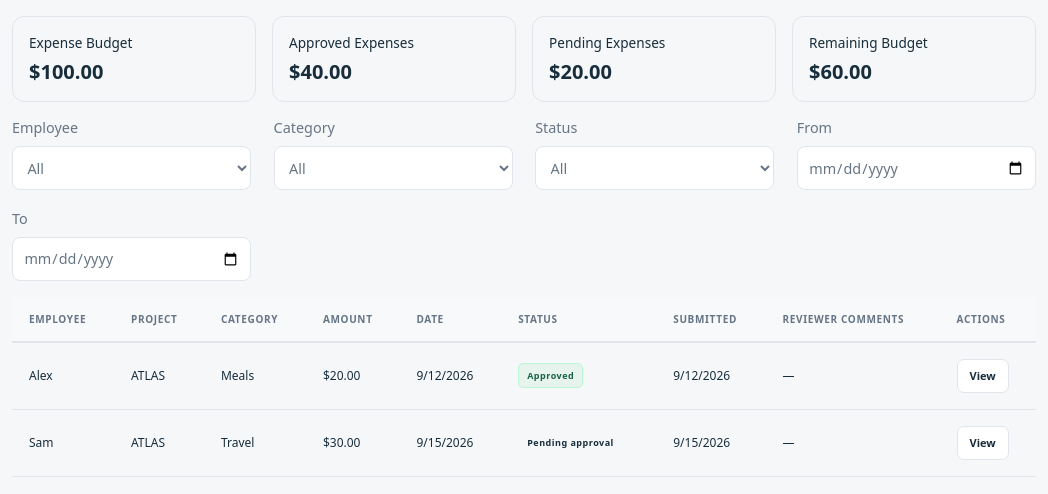
Test: shows pending separately from approved spending and filters project history
Expected: the text "$40.00" is shown, [289,58,352,85]
Expected: the text "$20.00" is shown, [549,58,612,85]
Select "Pending approval" in the dropdown labelled "Status" at x=655, y=168, box [535,146,774,190]
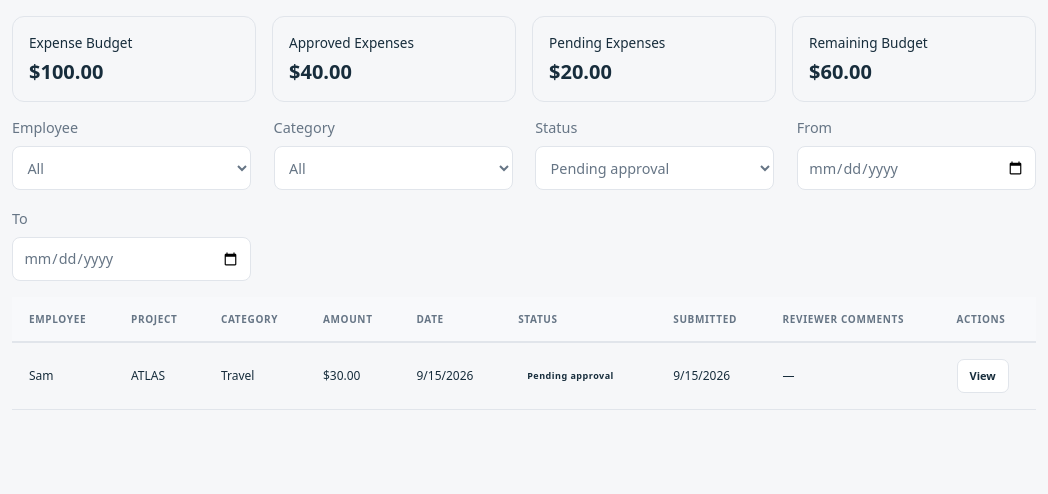
Expected: the cell "Sam" is shown, [12,342,114,409]
Expected: the cell "Alex" is gone
